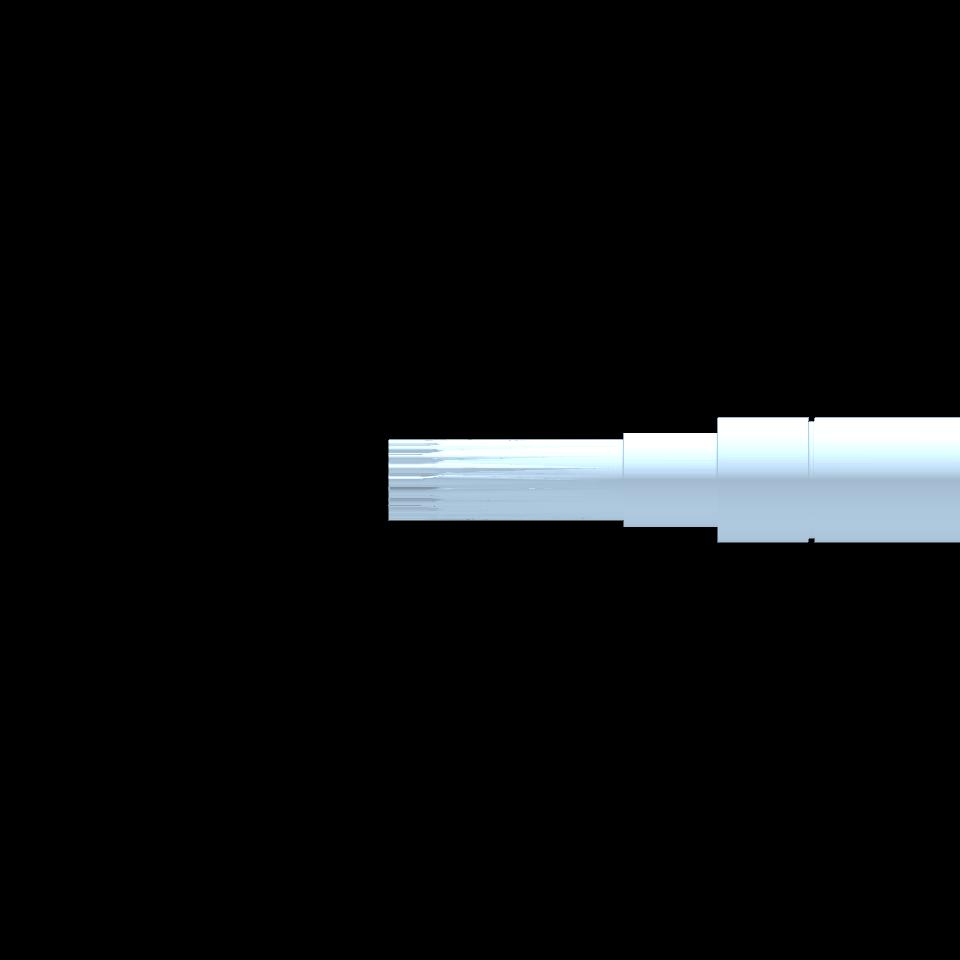Straight: (388, 440, 440, 521)
